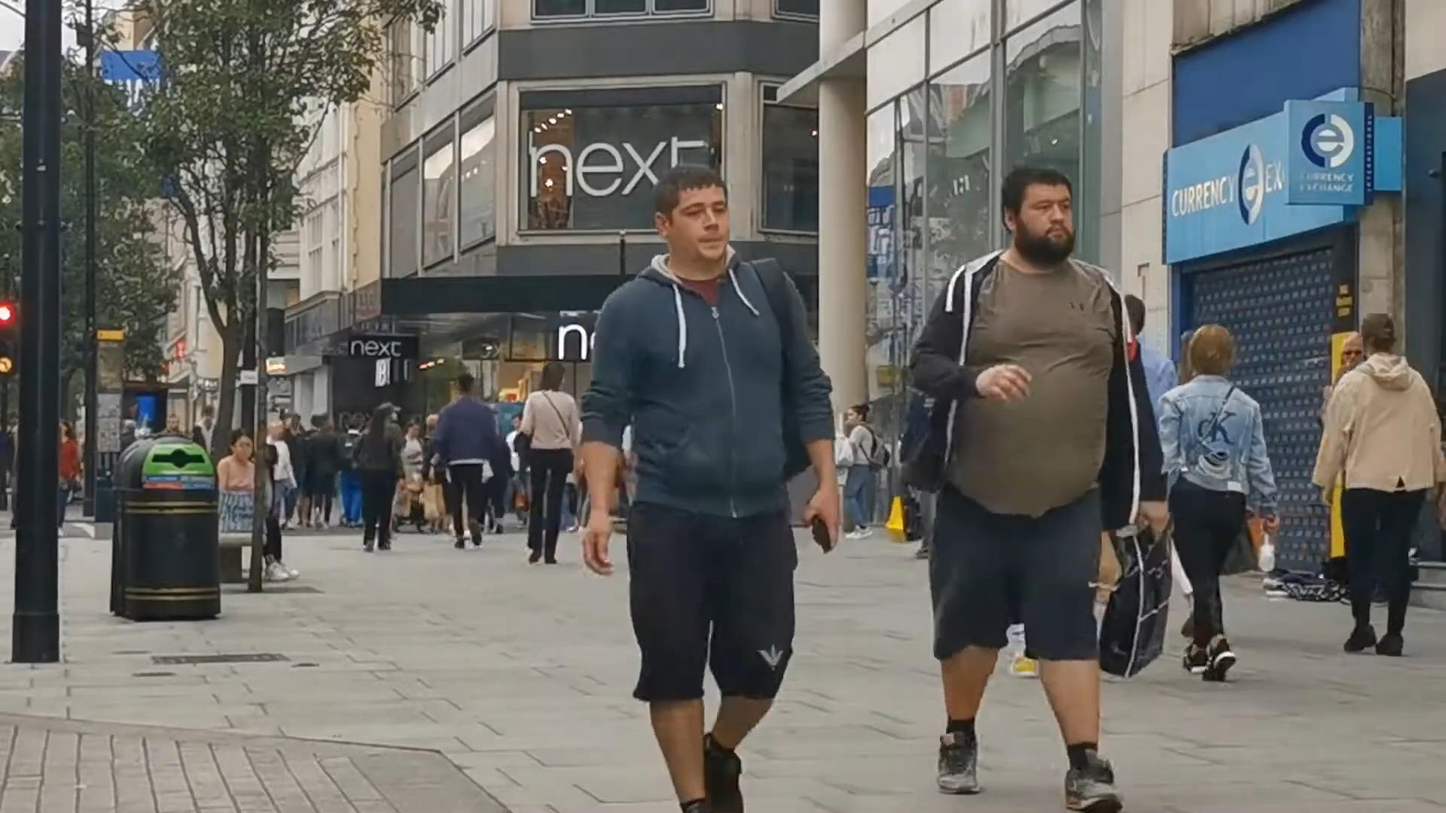no-helmet: (651, 161, 729, 266), (1002, 167, 1076, 270), (1187, 324, 1234, 377), (1362, 313, 1397, 359), (1341, 332, 1364, 370), (539, 361, 566, 393), (230, 428, 254, 462), (847, 404, 870, 424)
